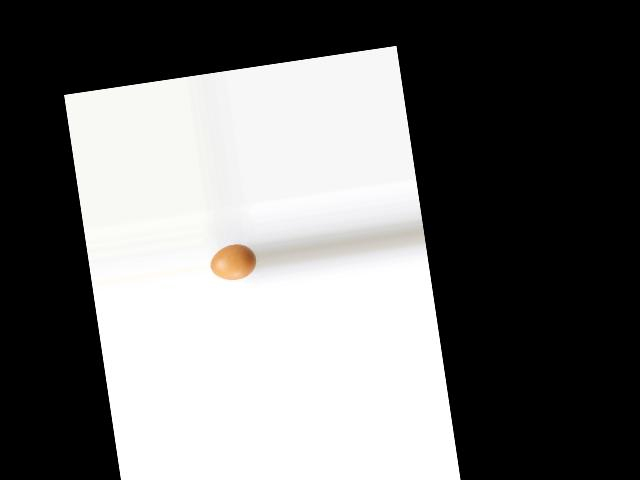egg: (208, 241, 258, 282)
